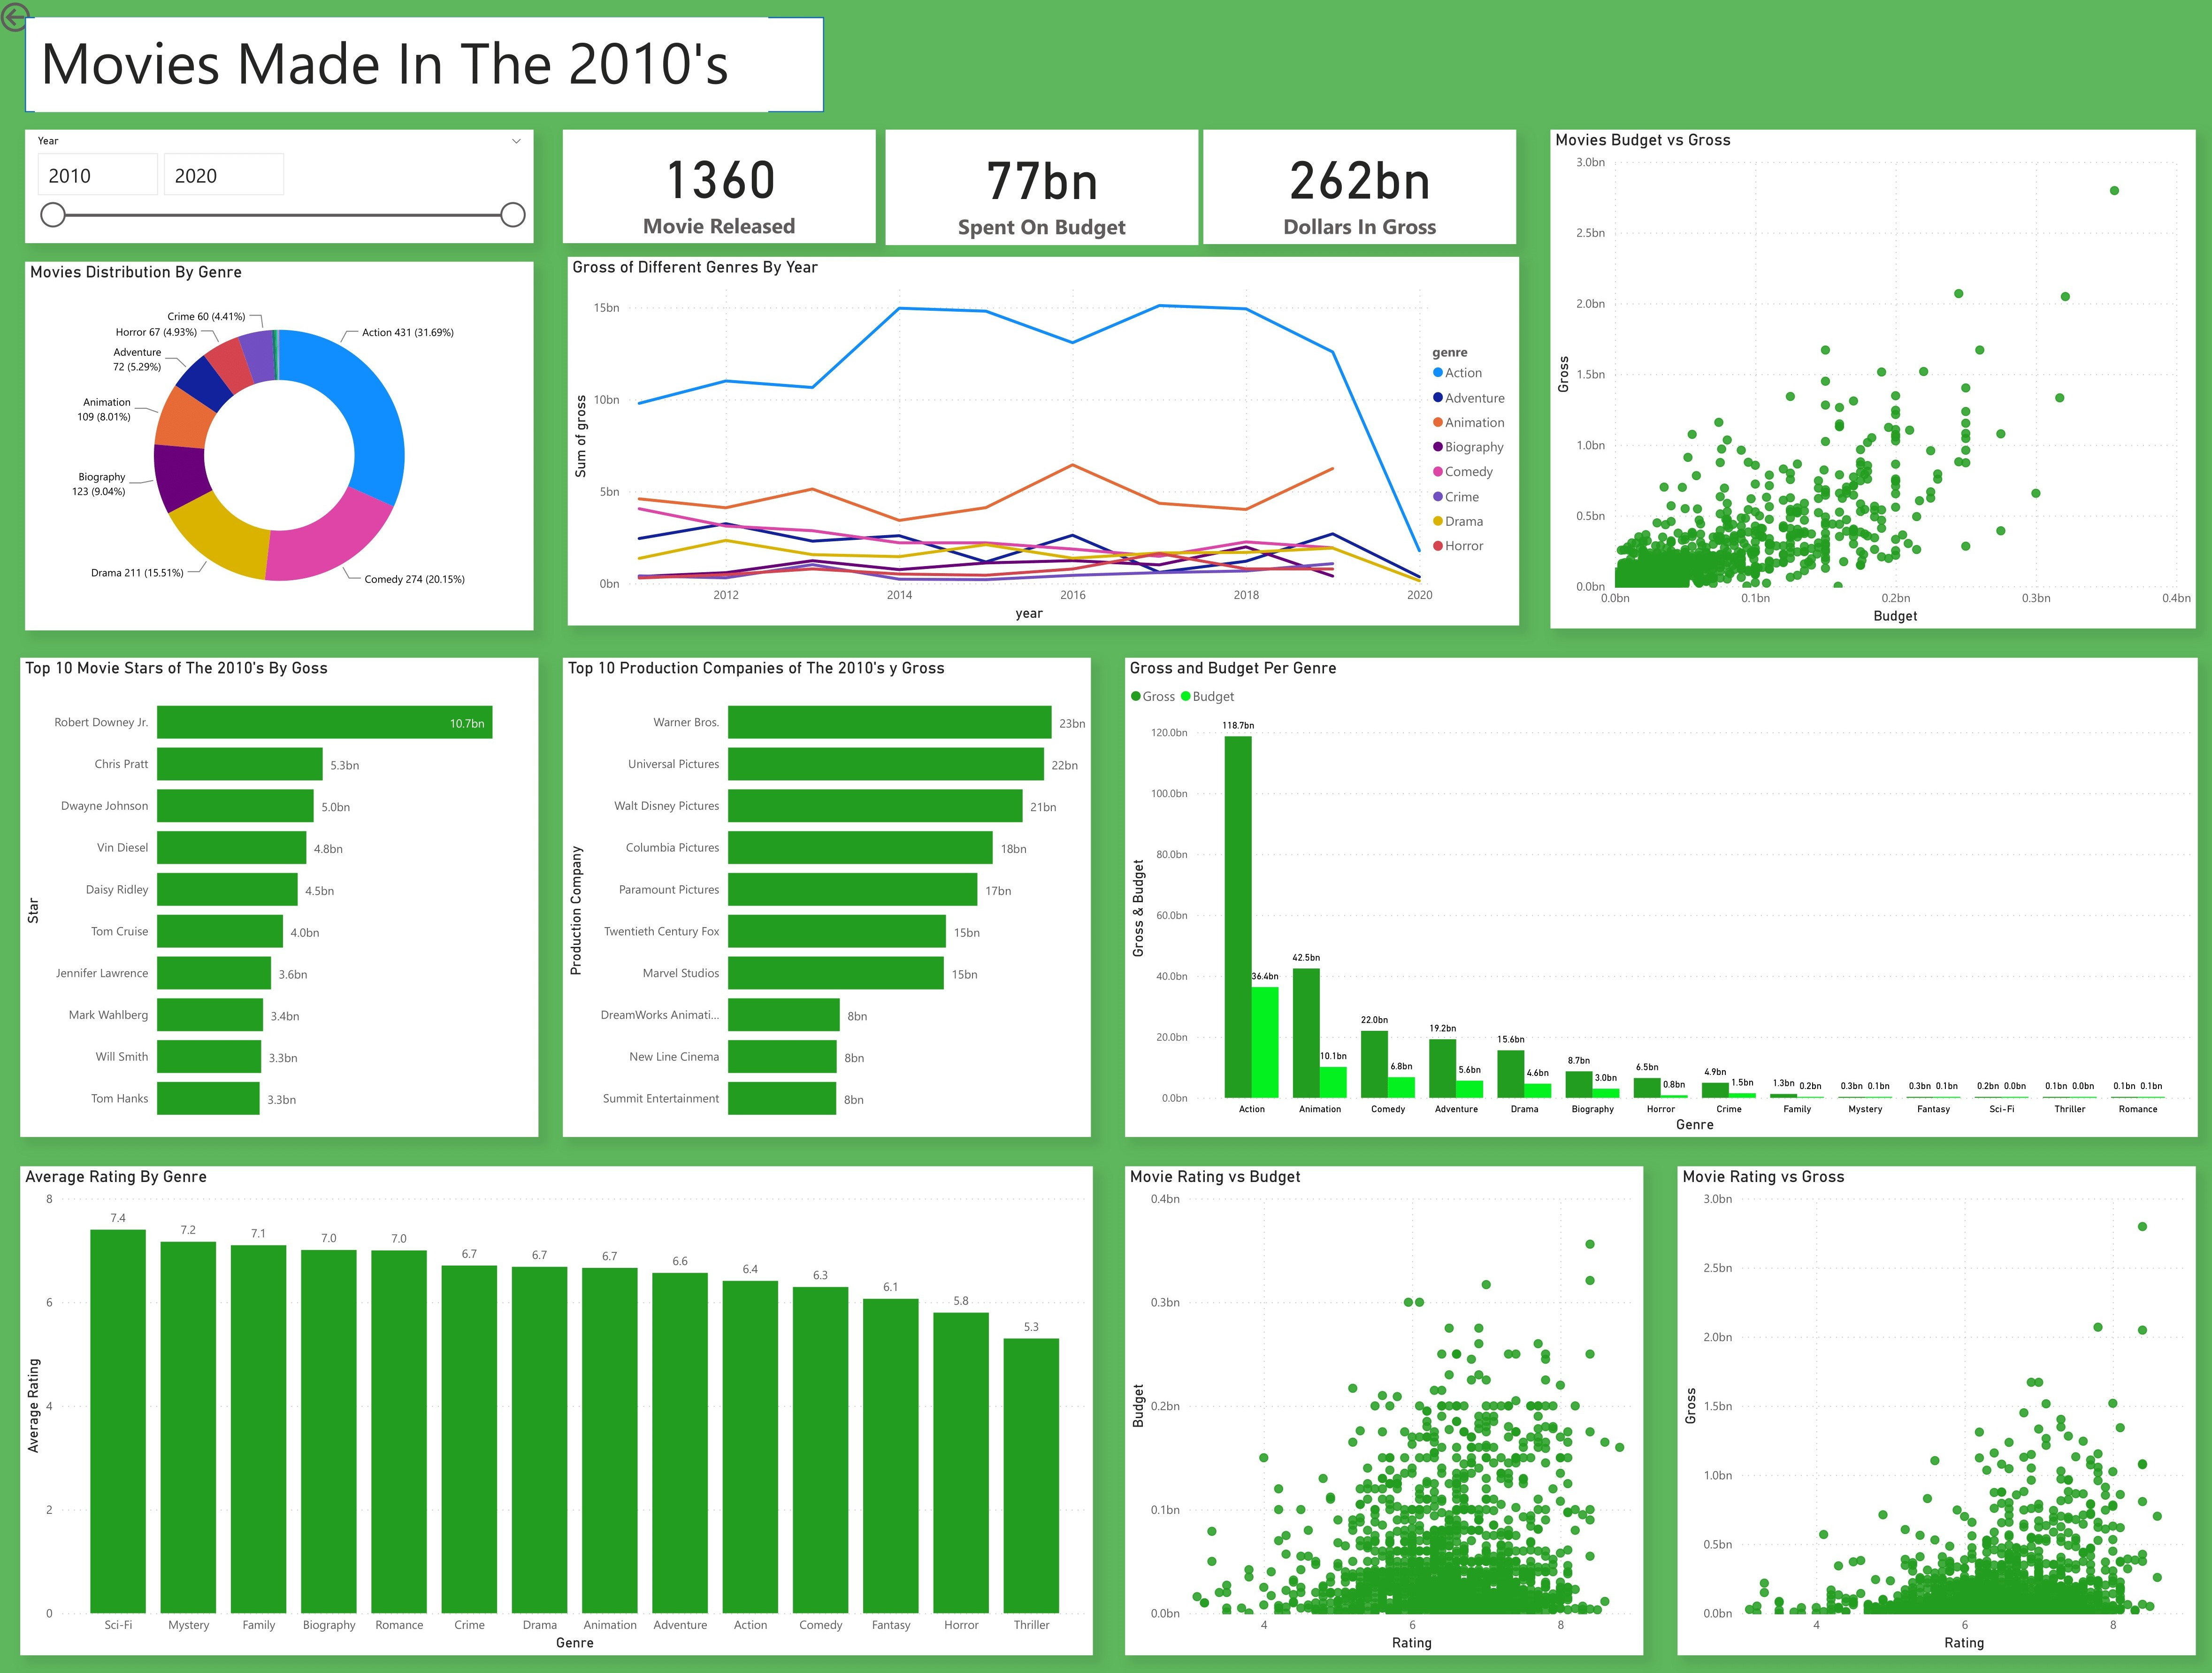

Layout of this report page (visuals, bound fields, positions):
{"tool":"powerbi","page":{"name":"Page 1","canvas":[2280,1720],"ordinal":0},"visuals":[{"type":"donutChart","title":"Movies Distribution By Genre","fields":{"Category":["movies.genre"],"Y":["movies.genre"]},"box":[30,270,520,376.7],"z":0},{"type":"clusteredColumnChart","title":"Gross and Budget Per Genre","fields":{"Category":["movies.genre"],"Y":["movies.gross","movies.budget"]},"box":[1153.3,673.3,1096.7,490],"z":1000},{"type":"lineChart","title":"Gross of Different Genres By Year","fields":{"Y":["movies.gross"],"Category":["movies.year"],"Series":["movies.genre"]},"box":[583.3,263.3,973.3,376.7],"z":2000},{"type":"columnChart","title":"Average Rating By Genre","fields":{"Category":["movies.genre"],"Y":["movies.score"]},"box":[23.3,1196.7,1096.7,500],"z":3000},{"type":"scatterChart","title":"Movies Budget vs Gross","fields":{"X":["movies.budget"],"Y":["movies.gross"],"Category":["movies.name"]},"box":[1590,136.7,660,510],"z":4000},{"type":"barChart","title":"Top 10 Movie Stars of The 2010''s By Goss","fields":{"Category":["movies.star"],"Y":["movies.gross"]},"box":[23.3,673.3,530,490],"z":5000},{"type":"actionButton","box":[0,0,100,40],"z":6000},{"type":"card","title":"Movies Released in the 2010''s","fields":{"Values":["movies.name"]},"box":[580,136,320,116],"z":7000},{"type":"card","fields":{"Values":["movies.gross"]},"box":[1236.7,136.7,320,116.7],"z":8000},{"type":"barChart","title":"Top 10 Production Companies of The 2010''s y Gross","fields":{"Category":["movies.company"],"Y":["movies.gross"]},"box":[580,673.3,540,490],"z":9000},{"type":"scatterChart","title":"Movie Rating vs Budget","fields":{"X":["movies.score"],"Y":["movies.budget"],"Category":["movies.name"]},"box":[1153.3,1196.7,530,500],"z":10000},{"type":"scatterChart","title":"Movie Rating vs Gross","fields":{"Category":["movies.name"],"Y":["movies.gross"],"X":["movies.score"]},"box":[1720,1196.7,530,500],"z":11000},{"type":"slicer","title":"Year","fields":{"Values":["movies.year"]},"box":[30,136,520,116],"z":12000},{"type":"card","fields":{"Values":["movies.budget"]},"box":[908,136,320,118],"z":12001},{"type":"shape","box":[30,20,816.7,96.7],"z":12002},{"type":"textbox","box":[40,20,750,96.7],"z":12003}]}

Visuals, with their boxes in screenshot pixels (x1, y1, x2, y2), scaled from the page's 2280x1720 canvas onto the 2212x1673 screenshot:
"Movies Distribution By Genre" donutChart: 29,262,534,629
"Gross and Budget Per Genre" clusteredColumnChart: 1119,655,2183,1131
"Gross of Different Genres By Year" lineChart: 566,256,1510,622
"Average Rating By Genre" columnChart: 23,1164,1087,1650
"Movies Budget vs Gross" scatterChart: 1543,133,2183,629
"Top 10 Movie Stars of The 2010''s By Goss" barChart: 23,655,537,1131
actionButton: 0,0,97,39
"Movies Released in the 2010''s" card: 563,132,873,245
card - movies.gross: 1200,133,1510,246
"Top 10 Production Companies of The 2010''s y Gross" barChart: 563,655,1087,1131
"Movie Rating vs Budget" scatterChart: 1119,1164,1633,1650
"Movie Rating vs Gross" scatterChart: 1669,1164,2183,1650
"Year" slicer: 29,132,534,245
card - movies.budget: 881,132,1191,247
shape: 29,19,821,114
textbox: 39,19,766,114
